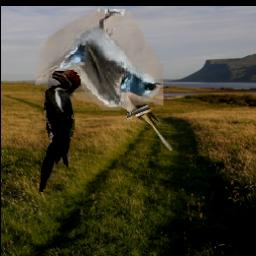Cuckoo: (109, 92, 173, 152)
Swallow: (34, 10, 162, 111)
Woodpecker: (38, 70, 80, 193)
